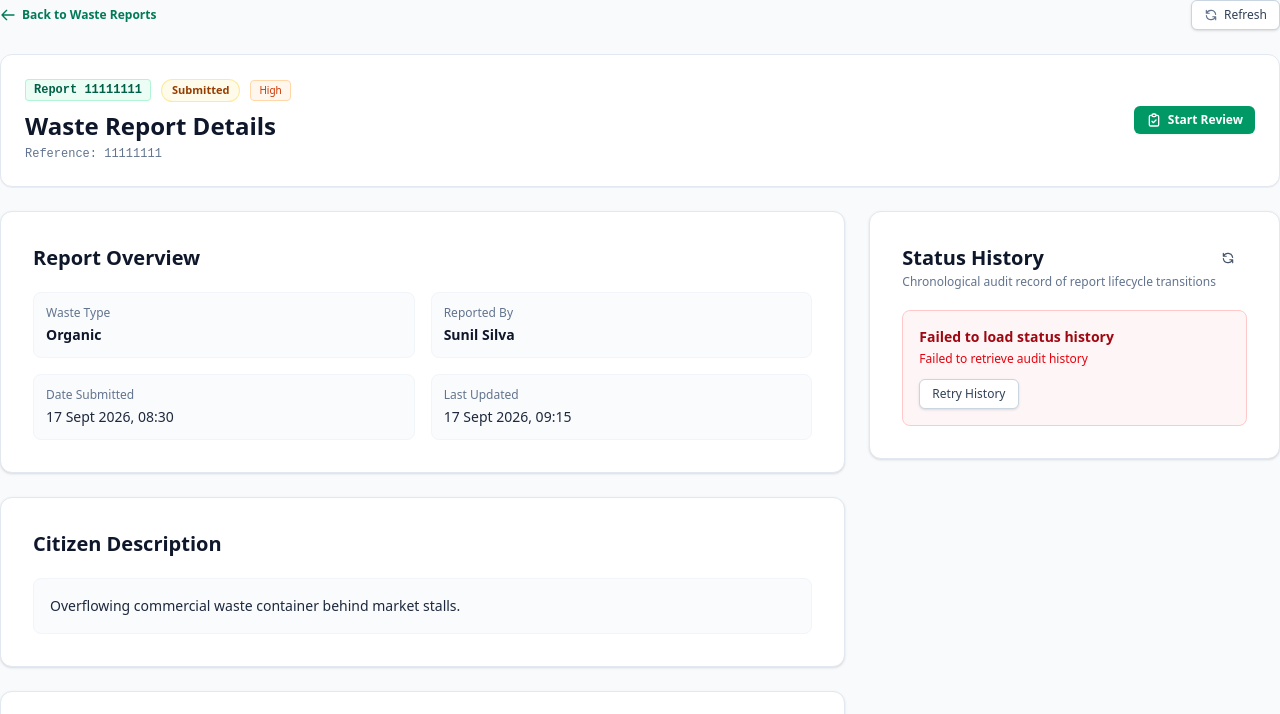
WasteReportDetailPage › renders status history failure state with isolated retry button
Expected: the message "Failed to load status history Failed to retrieve audit history Retry History" is shown, [902,310,1247,426]
Expected: the text "Failed to retrieve audit history" is shown, [919,350,1088,366]
Click the button "Retry History" at (969, 394), box [919,378,1018,408]
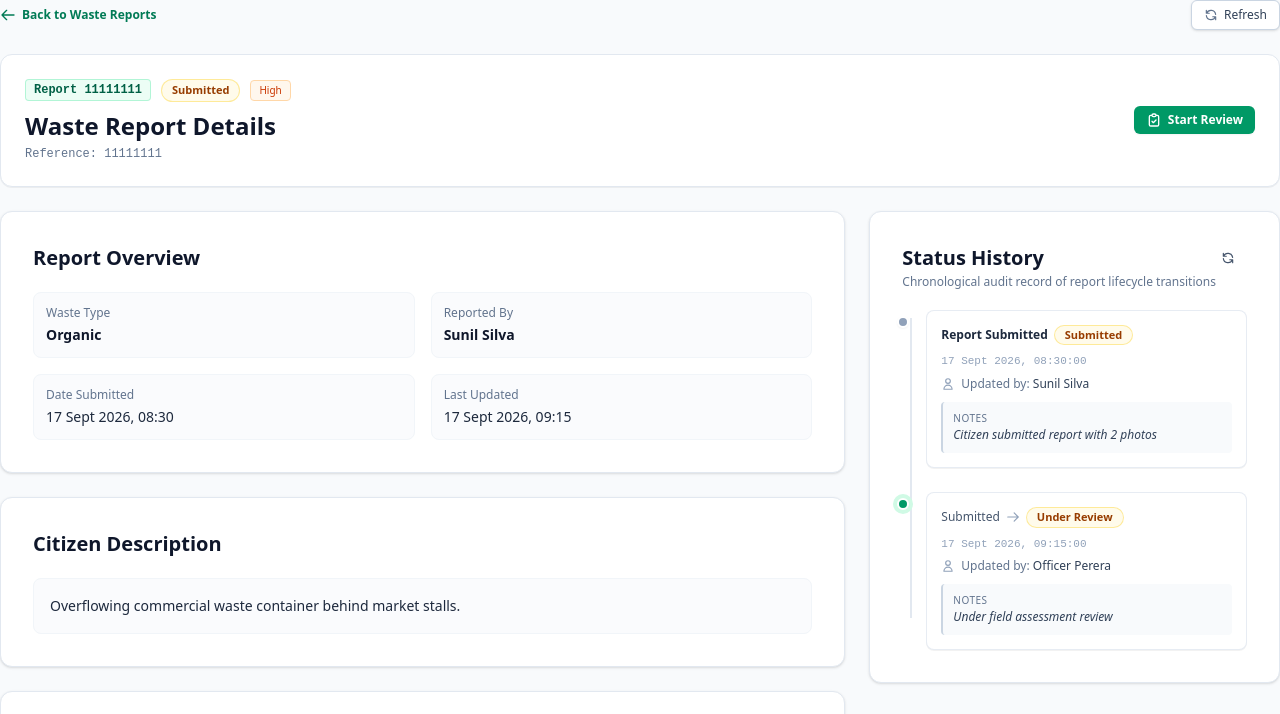
Now the element with test id "status-history-timeline" is shown, box [902,310,1247,650]
